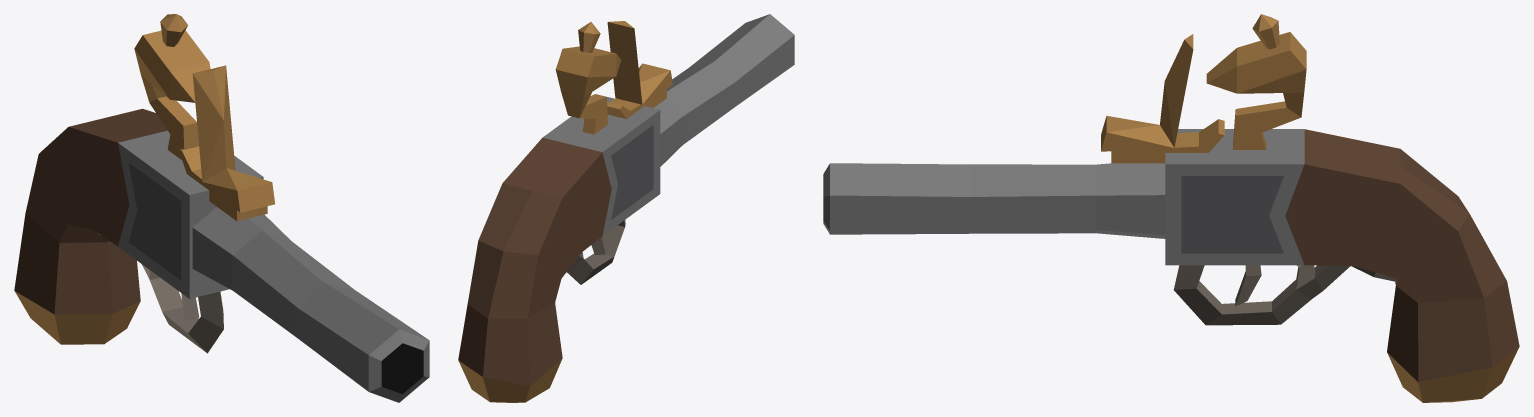
Rendered from SM_Wep_Pistol_02.glb.
3 views of the same model, side by side, from view 1: azimuth 30°, elevation 25°; view 2: azimuth 150°, elevation 25°; view 3: azimuth 270°, elevation 25° (orthographic). The views are drawn at different scales.
Visible parts, largest first — view 1: SM_Wep_Pistol_02; view 2: SM_Wep_Pistol_02; view 3: SM_Wep_Pistol_02.
Part boxes in pixels (x1,y1,x2,y2): SM_Wep_Pistol_02: (14,14,429,402); SM_Wep_Pistol_02: (458,14,794,402); SM_Wep_Pistol_02: (823,14,1519,402).
Bounding box in the file's own units: 0.000499 × 0.00215 × 0.0035.
